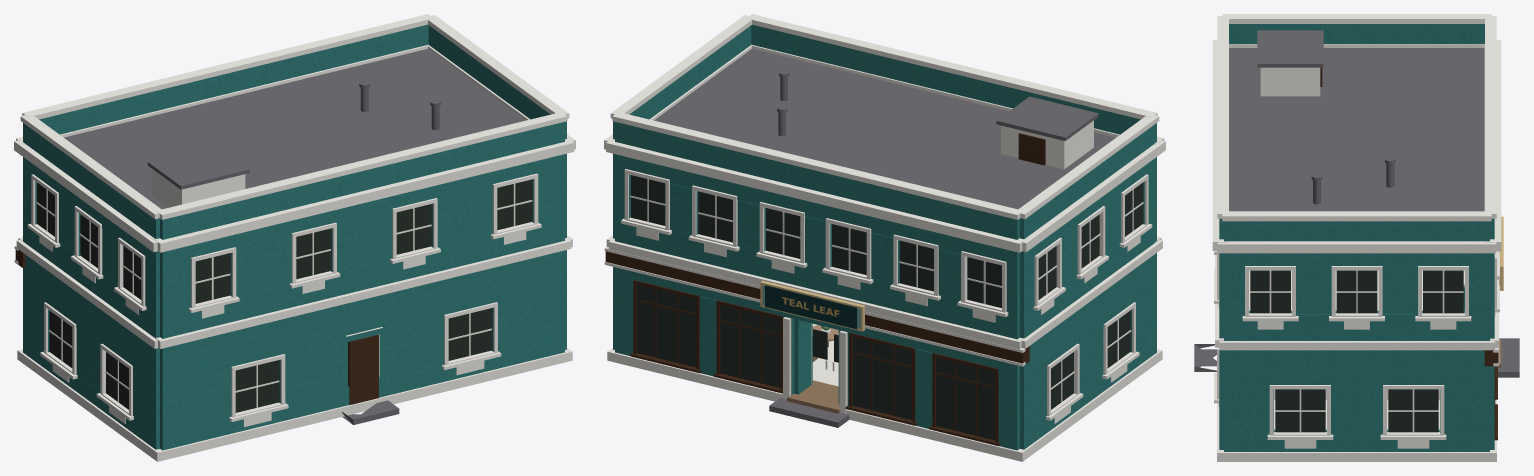
Rendered from gedung-g10-blender-v2.glb.
The picture shows the model from 3 angles, left to right: view 1: azimuth 30°, elevation 25°; view 2: azimuth 150°, elevation 25°; view 3: azimuth 270°, elevation 25°; orthographic projection.
Parts seen in each view (by area): view 1: Cube.001, Cube, Cube.065, Cube.029, Cube.024; view 2: Cube.001, Cube, Cube.065, Cube.029, Cube.024, Sign_Text, Int_Room, Int_Sign; view 3: Cube.001, Cube.065, Cube, Cube.029, Cube.024, Int_Room.
Boxes of the visible parts, x1,y1,x2,y2 form: Cube.001: (23, 24, 566, 450); Cube: (14, 14, 575, 461); Cube.065: (64, 49, 525, 424); Cube.029: (37, 179, 531, 412); Cube.024: (15, 249, 378, 405); Cube.001: (613, 24, 1156, 450); Cube: (604, 14, 1165, 461); Cube.065: (654, 48, 1115, 427); Cube.029: (631, 175, 1142, 440); Cube.024: (605, 133, 1045, 446); Sign_Text: (765, 285, 856, 329); Int_Room: (787, 380, 840, 413); Int_Sign: (760, 280, 865, 331); Cube.001: (1219, 24, 1494, 451); Cube.065: (1194, 30, 1519, 377); Cube: (1212, 14, 1501, 461); Cube.029: (1250, 270, 1463, 432); Cube.024: (1320, 67, 1498, 440); Int_Room: (1249, 270, 1501, 400).
Bounding box in the file's own units: 14.69 × 8.32 × 9.8.
23 materials, 3 textured.
